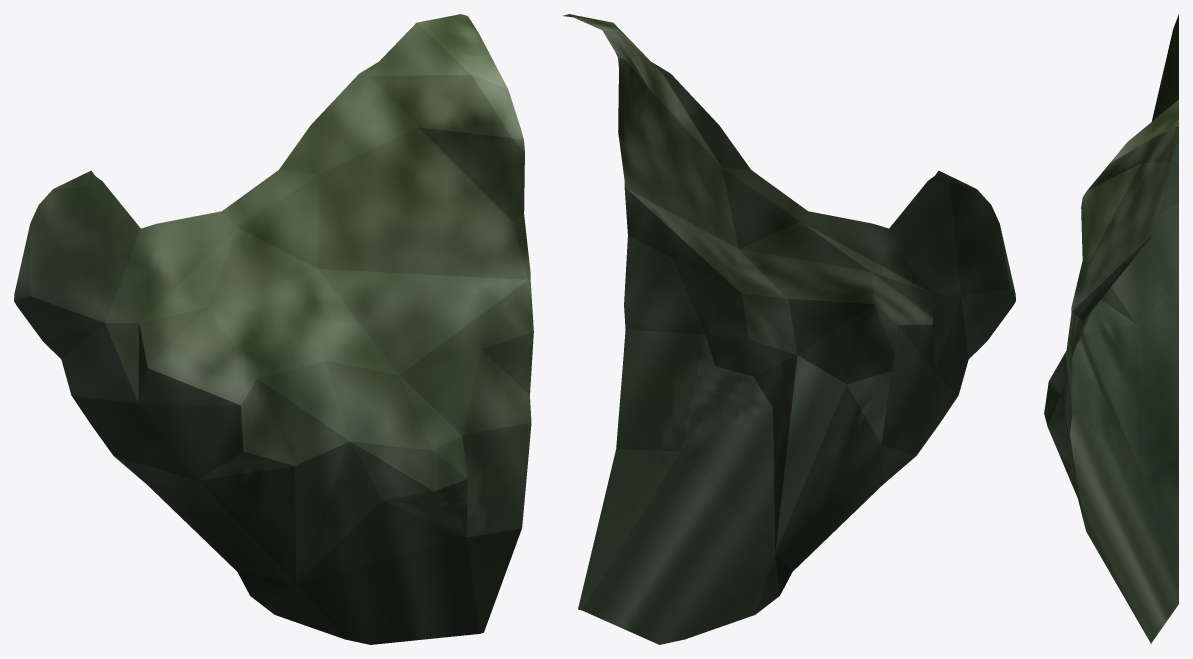
3 views of the same model, side by side, from view 1: azimuth 30°, elevation 25°; view 2: azimuth 150°, elevation 25°; view 3: azimuth 270°, elevation 25° (orthographic). The views are drawn at different scales.
Size of the model in its own units: 1.01 by 1.3 by 0.3023.
1 material, 1 textured.
